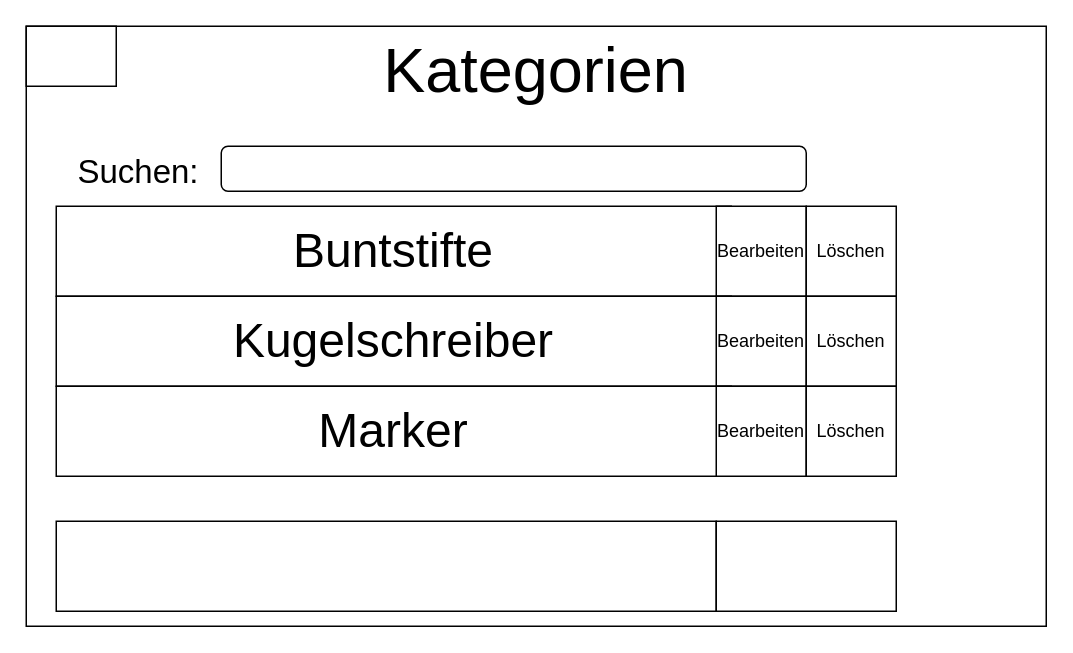
The diagram is 1073 pixels wide and 653 high, and some of its shapes have lost their labels. Each missing label, with the box of its shape:
Erstellen: (715, 520, 896, 611)
Menü: (25, 25, 116, 86)
